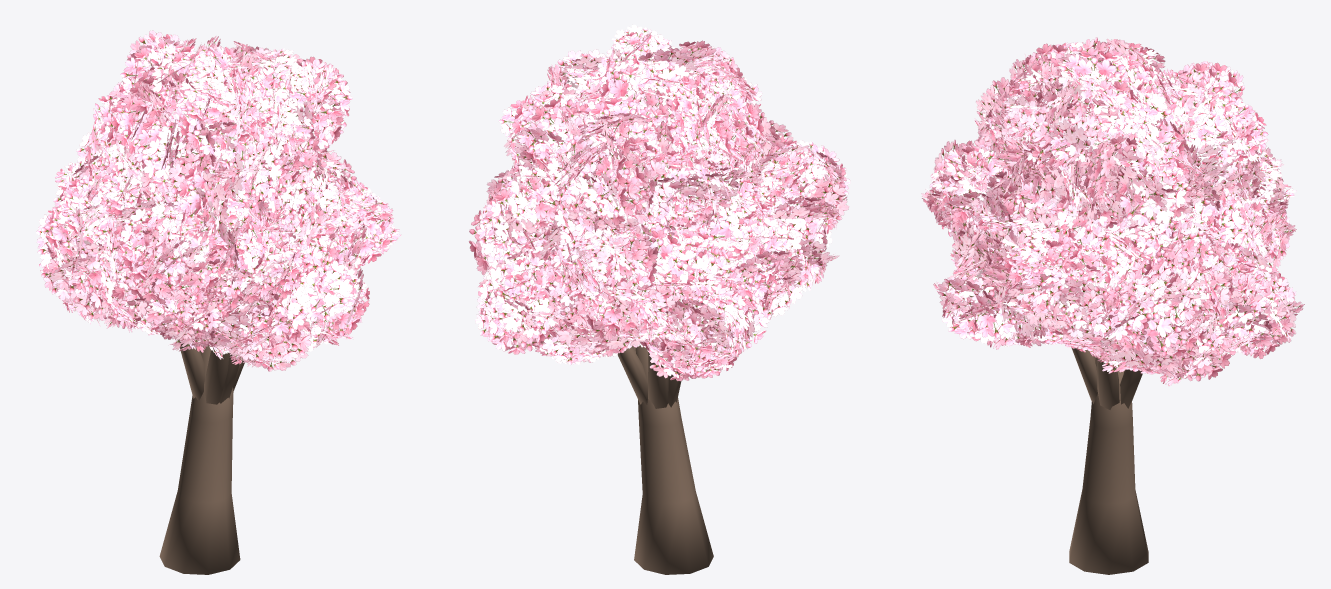
File: sakura.glb
3 renders of one model, left to right at view 1: azimuth 30°, elevation 25°; view 2: azimuth 150°, elevation 25°; view 3: azimuth 270°, elevation 25°, orthographic. The views are drawn at different scales.
Parts seen in each view (by area): view 1: sakura_blossoms, sakura_branch_0; view 2: sakura_blossoms, sakura_branch_0; view 3: sakura_blossoms, sakura_branch_0.
Boxes of the visible parts, <box> form: sakura_blossoms: <box>36,30,401,371</box>; sakura_branch_0: <box>159,339,244,574</box>; sakura_blossoms: <box>469,24,850,381</box>; sakura_branch_0: <box>617,345,713,574</box>; sakura_blossoms: <box>921,37,1304,386</box>; sakura_branch_0: <box>1069,347,1148,574</box>.
Bounding box in the file's own units: 2.89 × 4.32 × 2.97.
Materials: 3 (1 with a texture image).
